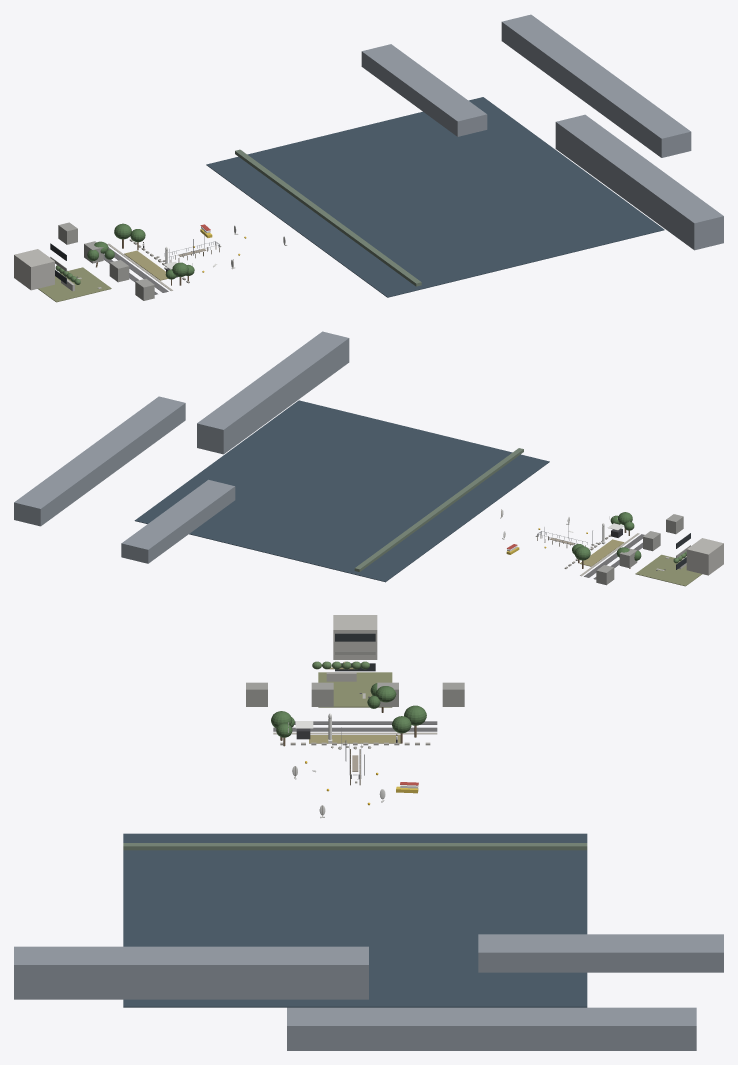
3 views of the same model, one above another, from view 1: azimuth 30°, elevation 25°; view 2: azimuth 150°, elevation 25°; view 3: azimuth 270°, elevation 25° (orthographic). The views are drawn at different scales.
Visible parts, largest first — view 1: s02_water, s02_mountain_0, s02_mountain_1, s02_mountain_2, s02_farshore, s01_building, s01_lawn, s02_shore_ground; view 2: s02_water, s02_mountain_0, s02_mountain_1, s02_mountain_2, s02_farshore, s01_building, s01_lawn; view 3: s02_water, s02_mountain_0, s02_mountain_1, s02_mountain_2, s02_farshore, s01_building, s01_lawn, s02_shore_ground.
Part boxes in pixels (x1,y1,x2,y2): s02_water: [206, 97, 664, 297]; s02_mountain_0: [555, 114, 723, 250]; s02_mountain_1: [501, 14, 691, 157]; s02_mountain_2: [361, 44, 487, 136]; s02_farshore: [235, 149, 421, 286]; s01_building: [14, 249, 54, 290]; s01_lawn: [38, 267, 111, 302]; s02_shore_ground: [124, 250, 167, 280]; s02_water: [134, 400, 549, 582]; s02_mountain_0: [197, 331, 349, 454]; s02_mountain_1: [14, 396, 185, 526]; s02_mountain_2: [121, 479, 235, 563]; s02_farshore: [354, 448, 523, 571]; s01_building: [686, 538, 723, 575]; s01_lawn: [635, 554, 702, 586]; s02_water: [123, 833, 587, 1007]; s02_mountain_0: [14, 946, 368, 999]; s02_mountain_1: [287, 1007, 696, 1050]; s02_mountain_2: [478, 934, 723, 972]; s02_farshore: [123, 843, 587, 850]; s01_building: [333, 615, 377, 659]; s01_lawn: [318, 672, 392, 707]; s02_shore_ground: [309, 735, 400, 743].
Bounding box in the file's own units: 174 × 10.88 × 130.
